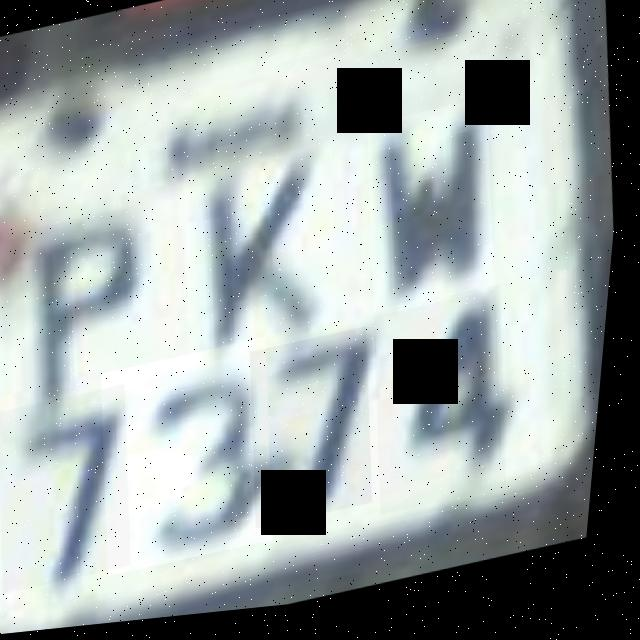3: (94, 341, 297, 582)
4: (366, 293, 530, 526)
7: (0, 385, 155, 596), (244, 332, 394, 536)
K: (173, 145, 358, 368)
P: (3, 178, 179, 414)
W: (356, 106, 514, 327)
